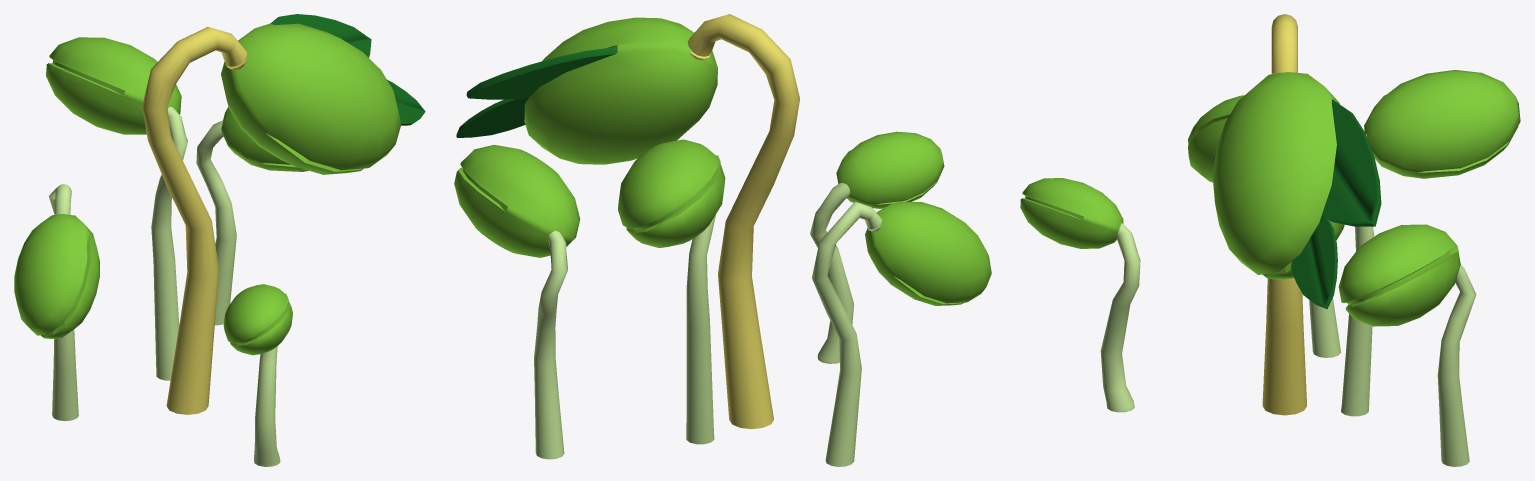
Rendered from Taugeh_Day.FBX.
3 renders of one model, left to right at view 1: azimuth 30°, elevation 25°; view 2: azimuth 150°, elevation 25°; view 3: azimuth 270°, elevation 25°, orthographic. The views are drawn at different scales.
Visible parts, largest first — view 1: Main_Bean, Main_Stalk, Bean_1, Bean_3, Cylinder004, Bean_4, Cylinder003, Stalk_1, Cylinder005, Bean_2, Plane001, Plane003; view 2: Main_Bean, Main_Stalk, Bean_2, Bean_1, Bean_3, Bean_4, Stalk_1, Cylinder004, Cylinder003, Plane001, Cylinder005, Plane003; view 3: Main_Bean, Bean_3, Bean_2, Main_Stalk, Bean_4, Plane001, Cylinder003, Cylinder005, Cylinder004, Plane003, Bean_1, Stalk_1.
Part boxes in pixels (x1=…): Main_Bean: x1=221, y1=23, x2=401, y2=174; Main_Stalk: x1=142, y1=27, x2=247, y2=414; Bean_1: x1=14, y1=214, x2=99, y2=338; Bean_3: x1=46, y1=37, x2=181, y2=134; Cylinder004: x1=151, y1=106, x2=187, y2=380; Bean_4: x1=223, y1=284, x2=292, y2=355; Cylinder003: x1=196, y1=120, x2=236, y2=325; Stalk_1: x1=49, y1=184, x2=78, y2=421; Cylinder005: x1=254, y1=346, x2=280, y2=466; Bean_2: x1=221, y1=107, x2=308, y2=171; Plane001: x1=270, y1=14, x2=371, y2=57; Plane003: x1=387, y1=79, x2=425, y2=125; Main_Bean: x1=524, y1=17, x2=717, y2=164; Main_Stalk: x1=687, y1=14, x2=799, y2=429; Bean_2: x1=454, y1=145, x2=580, y2=257; Bean_1: x1=865, y1=201, x2=991, y2=305; Bean_3: x1=618, y1=139, x2=725, y2=247; Bean_4: x1=836, y1=131, x2=944, y2=208; Stalk_1: x1=812, y1=201, x2=882, y2=466; Cylinder004: x1=686, y1=215, x2=715, y2=444; Cylinder003: x1=534, y1=230, x2=567, y2=459; Plane001: x1=466, y1=47, x2=616, y2=99; Cylinder005: x1=810, y1=183, x2=853, y2=363; Plane003: x1=456, y1=98, x2=528, y2=137; Main_Bean: x1=1212, y1=72, x2=1344, y2=279; Bean_3: x1=1364, y1=70, x2=1520, y2=178; Bean_2: x1=1338, y1=224, x2=1460, y2=326; Main_Stalk: x1=1262, y1=14, x2=1306, y2=415; Bean_4: x1=1020, y1=178, x2=1123, y2=248; Plane001: x1=1322, y1=99, x2=1381, y2=226; Cylinder003: x1=1437, y1=264, x2=1476, y2=466; Cylinder005: x1=1100, y1=223, x2=1140, y2=412; Cylinder004: x1=1341, y1=134, x2=1374, y2=416; Plane003: x1=1291, y1=215, x2=1337, y2=309; Bean_1: x1=1188, y1=95, x2=1244, y2=182; Stalk_1: x1=1309, y1=298, x2=1341, y2=357.
Bounding box in the file's own units: 1394 × 1110 × 1271.
